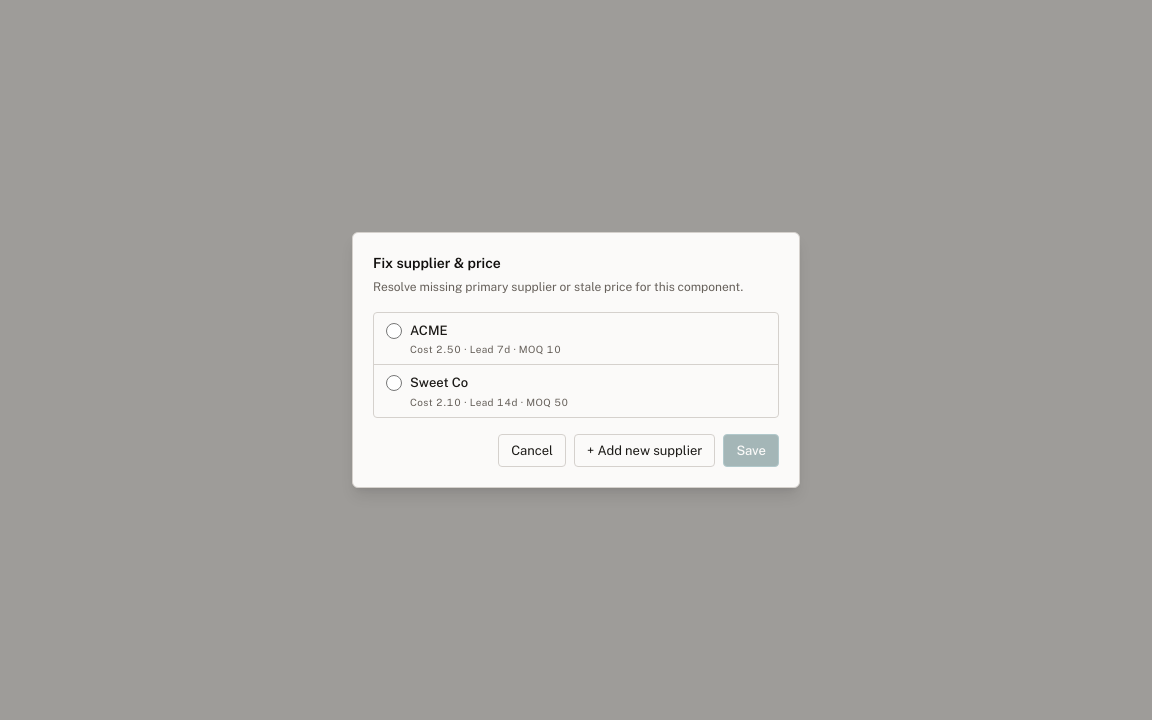
QuickFixDrawer — Action A (set existing supplier primary) › on 409 from partial unique index: shows 'Database invariant violation' banner
Expected: the text "Sweet Co" is shown, [410,376,468,390]
Click the radio button labelled "Sweet Co" at coordinates (394, 384), box [386,376,402,392]
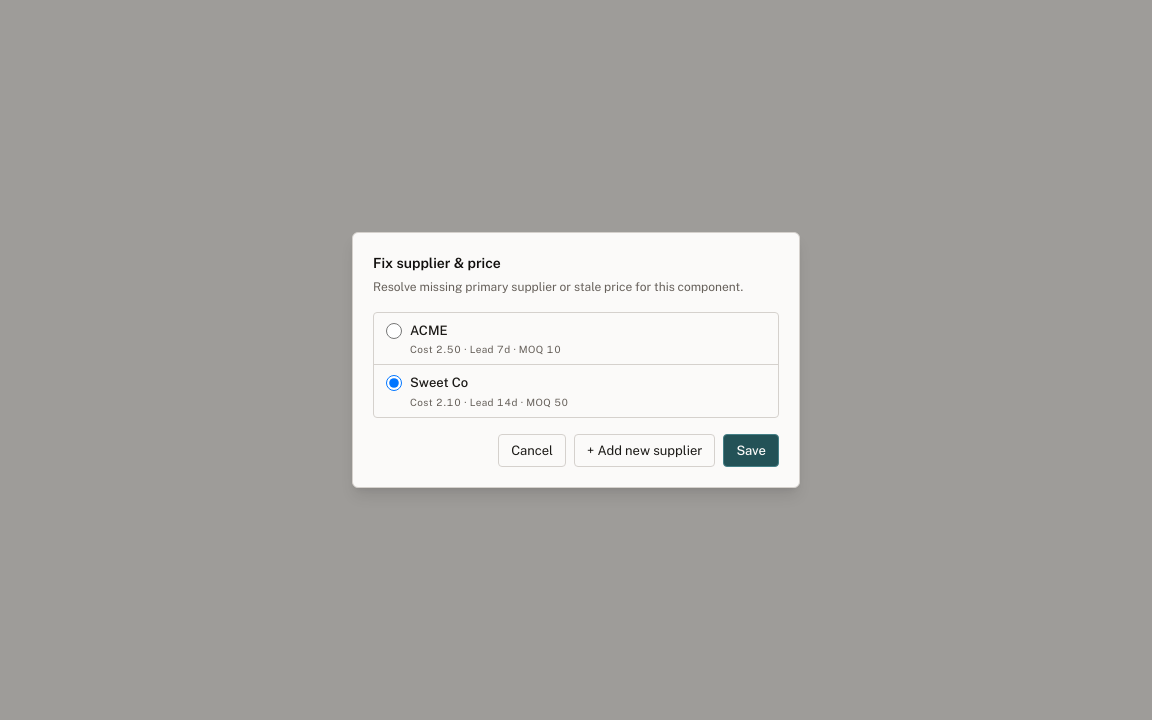
Click the button "Save" at coordinates (751, 450), box [723,434,779,467]
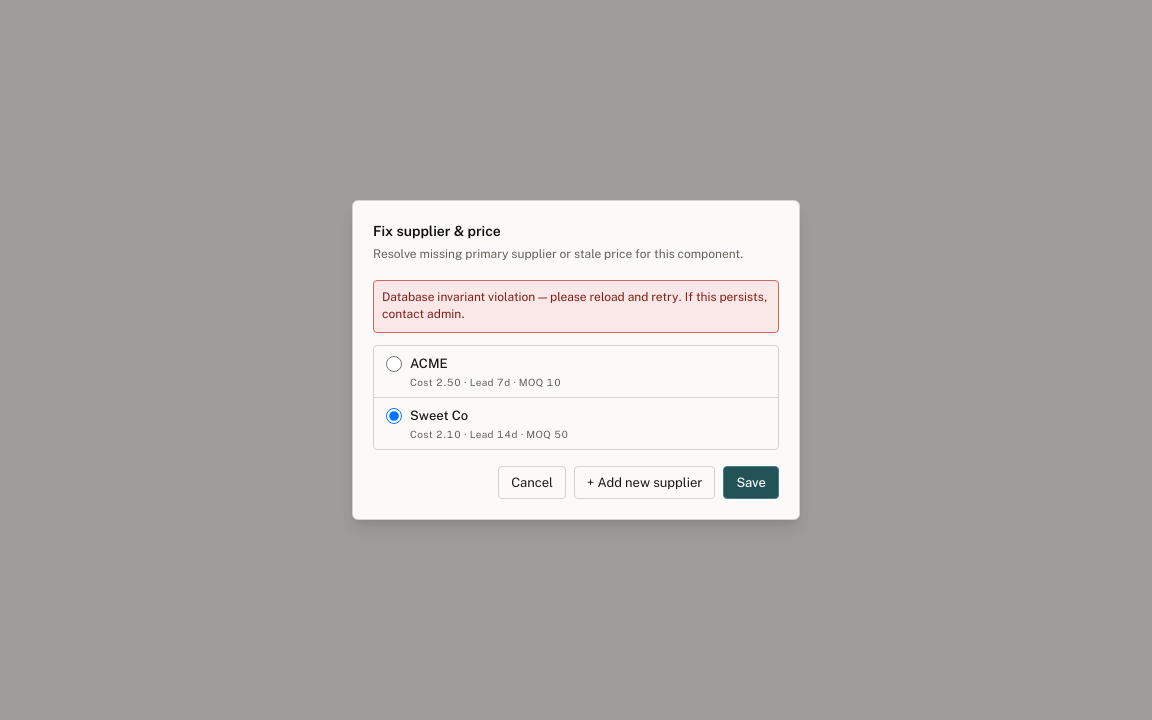
Expected: the text "Database invariant violation" is shown, [382,290,767,321]
